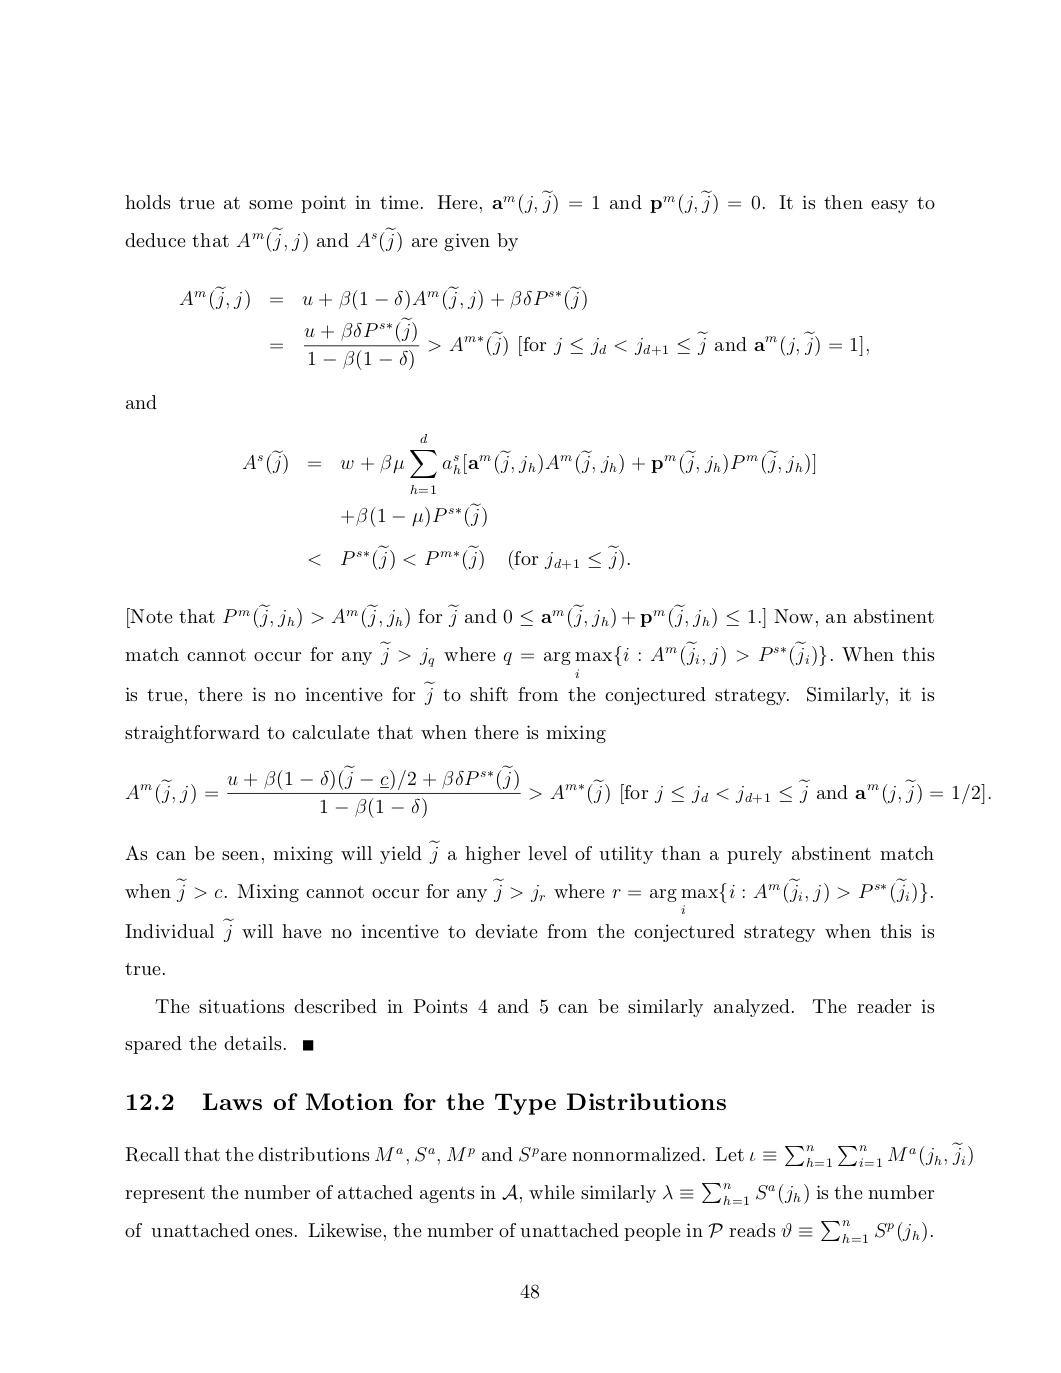formula: (125, 765, 990, 817), (242, 434, 815, 493), (270, 317, 868, 369), (179, 285, 586, 310), (308, 544, 629, 569), (341, 502, 486, 527)
